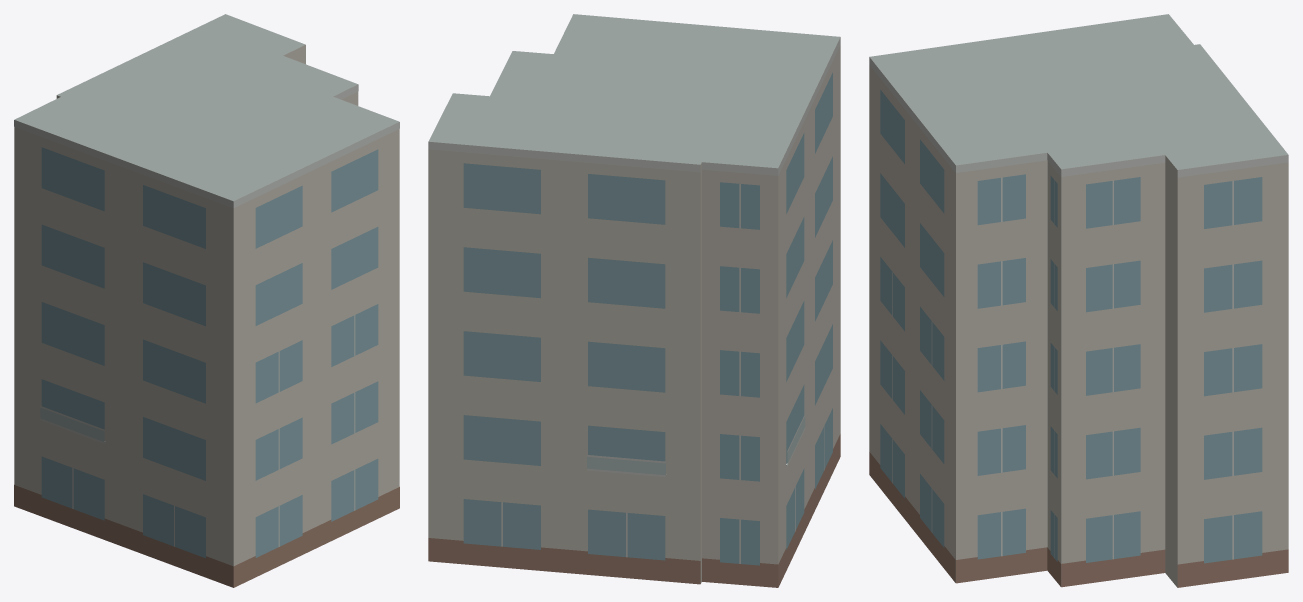
Rendered from survey-upis-32953523.glb.
The picture shows the model from 3 angles, left to right: view 1: azimuth 30°, elevation 25°; view 2: azimuth 150°, elevation 25°; view 3: azimuth 270°, elevation 25°; orthographic projection. The views are drawn at different scales.
Parts seen in each view (by area): view 1: survey-upis-32953523.tmp; view 2: survey-upis-32953523.tmp; view 3: survey-upis-32953523.tmp.
Boxes of the visible parts, x1=… form: survey-upis-32953523.tmp: x1=14, y1=14, x2=399, y2=587; survey-upis-32953523.tmp: x1=428, y1=14, x2=840, y2=587; survey-upis-32953523.tmp: x1=869, y1=14, x2=1288, y2=587.
Size of the model in its own units: 10.82 by 13.5 by 12.29.
